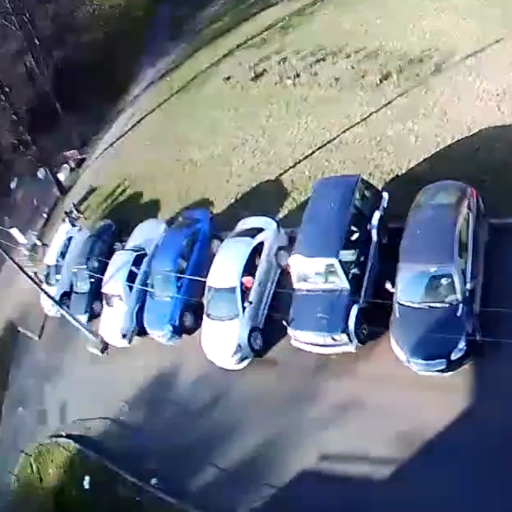Car: (387, 180, 484, 376), (286, 175, 384, 355), (198, 215, 285, 371), (143, 207, 209, 340), (101, 219, 160, 343), (69, 220, 120, 321), (40, 222, 83, 316)
